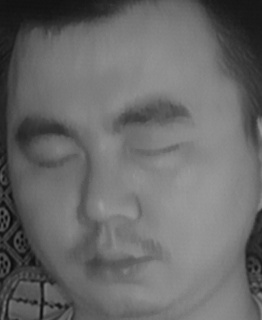blink: (126, 129, 185, 169), (31, 142, 82, 179)
mouth: (76, 237, 159, 291)
